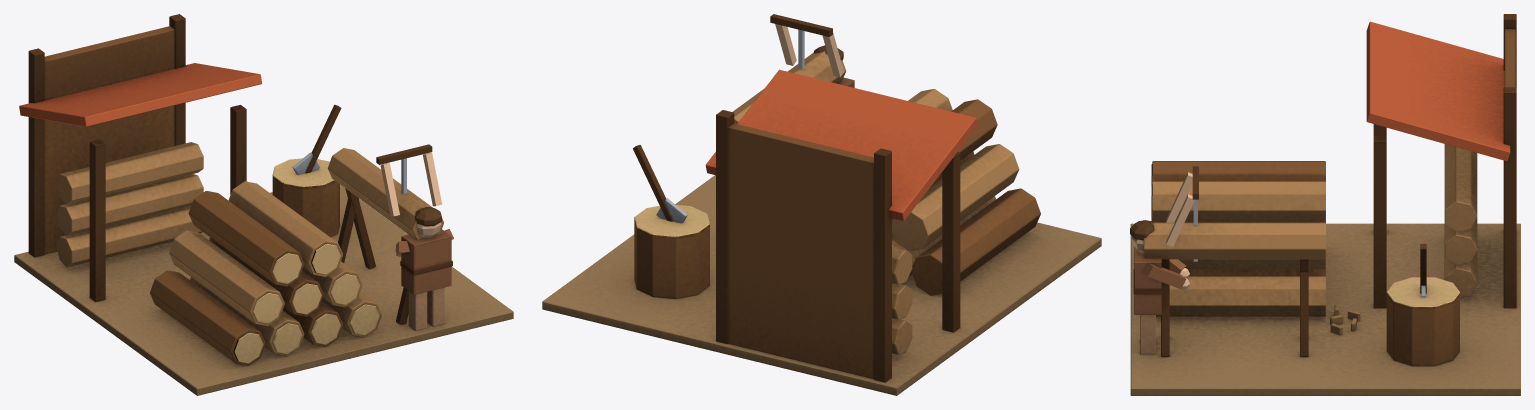
Rendered from tartak.glb.
The picture shows the model from 3 angles, left to right: view 1: azimuth 30°, elevation 25°; view 2: azimuth 150°, elevation 25°; view 3: azimuth 270°, elevation 25°; orthographic projection. The views are drawn at different scales.
Visible parts, largest first — view 1: tartak, anim_pila; view 2: tartak, anim_pila; view 3: tartak, anim_pila, anim_kolys_tracz.
Part boxes in pixels (x1=…): tartak: x1=14, y1=14, x2=513, y2=395; anim_pila: x1=376, y1=144, x2=442, y2=216; tartak: x1=542, y1=45, x2=1101, y2=395; anim_pila: x1=770, y1=14, x2=843, y2=77; tartak: x1=1130, y1=14, x2=1520, y2=395; anim_pila: x1=1166, y1=166, x2=1198, y2=261; anim_kolys_tracz: x1=1143, y1=259, x2=1189, y2=289.
Bounding box in the file's own units: 1.8 × 1.14 × 1.8.
5 materials, 1 textured.
